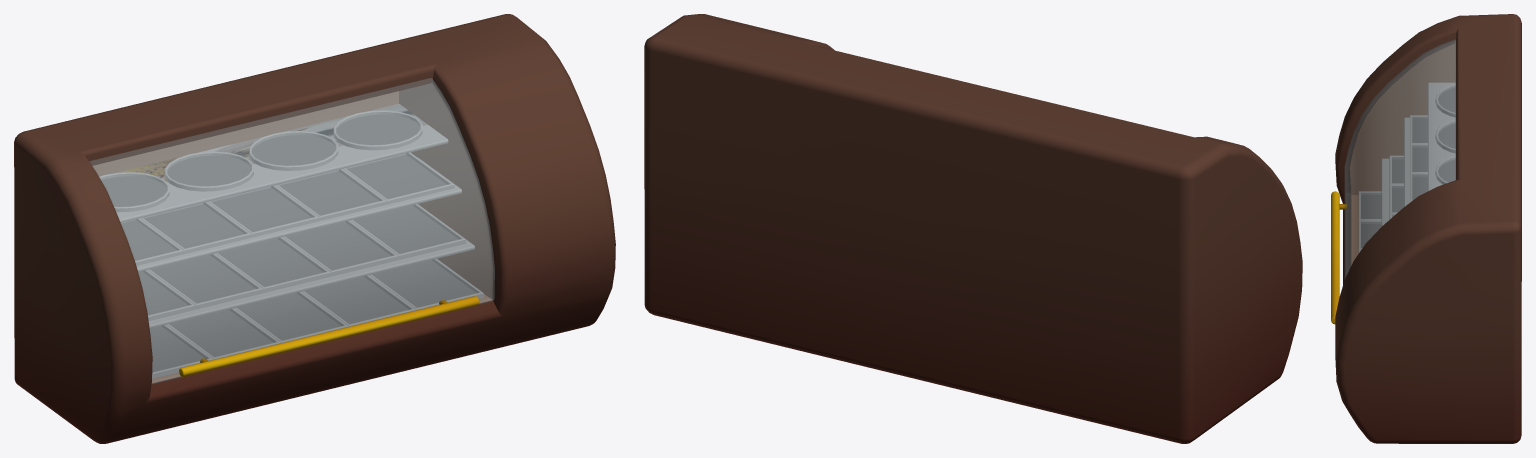
The model's file is Shopwindow.fbx.
3 renders of one model, left to right at view 1: azimuth 30°, elevation 25°; view 2: azimuth 150°, elevation 25°; view 3: azimuth 270°, elevation 25°, orthographic. The views are drawn at different scales.
Visible parts, largest first — view 1: Base, Door; view 2: Base; view 3: Base, Door.
Part boxes in pixels (<box>): Base: <box>14,14,615,443</box>; Door: <box>89,78,494,384</box>; Base: <box>644,14,1302,443</box>; Base: <box>1335,14,1521,443</box>; Door: <box>1331,39,1455,324</box>.
Bounding box in the file's own units: 211 × 102 × 79.23.
